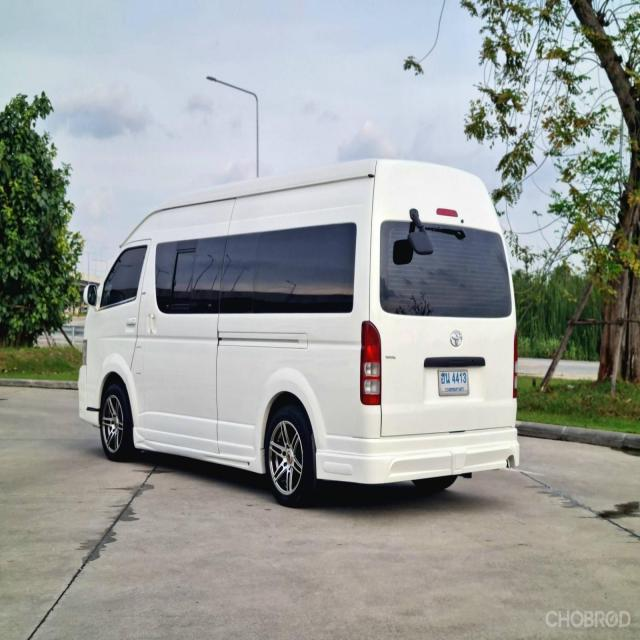license_plate: (436, 366, 472, 395)
